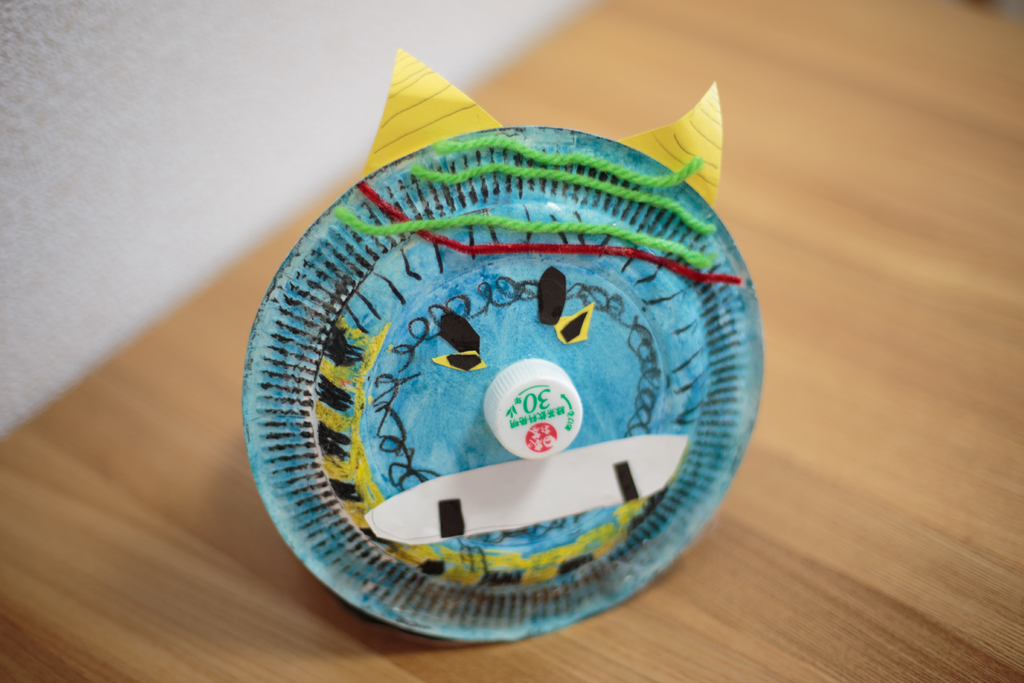plate: (236, 115, 770, 645)
